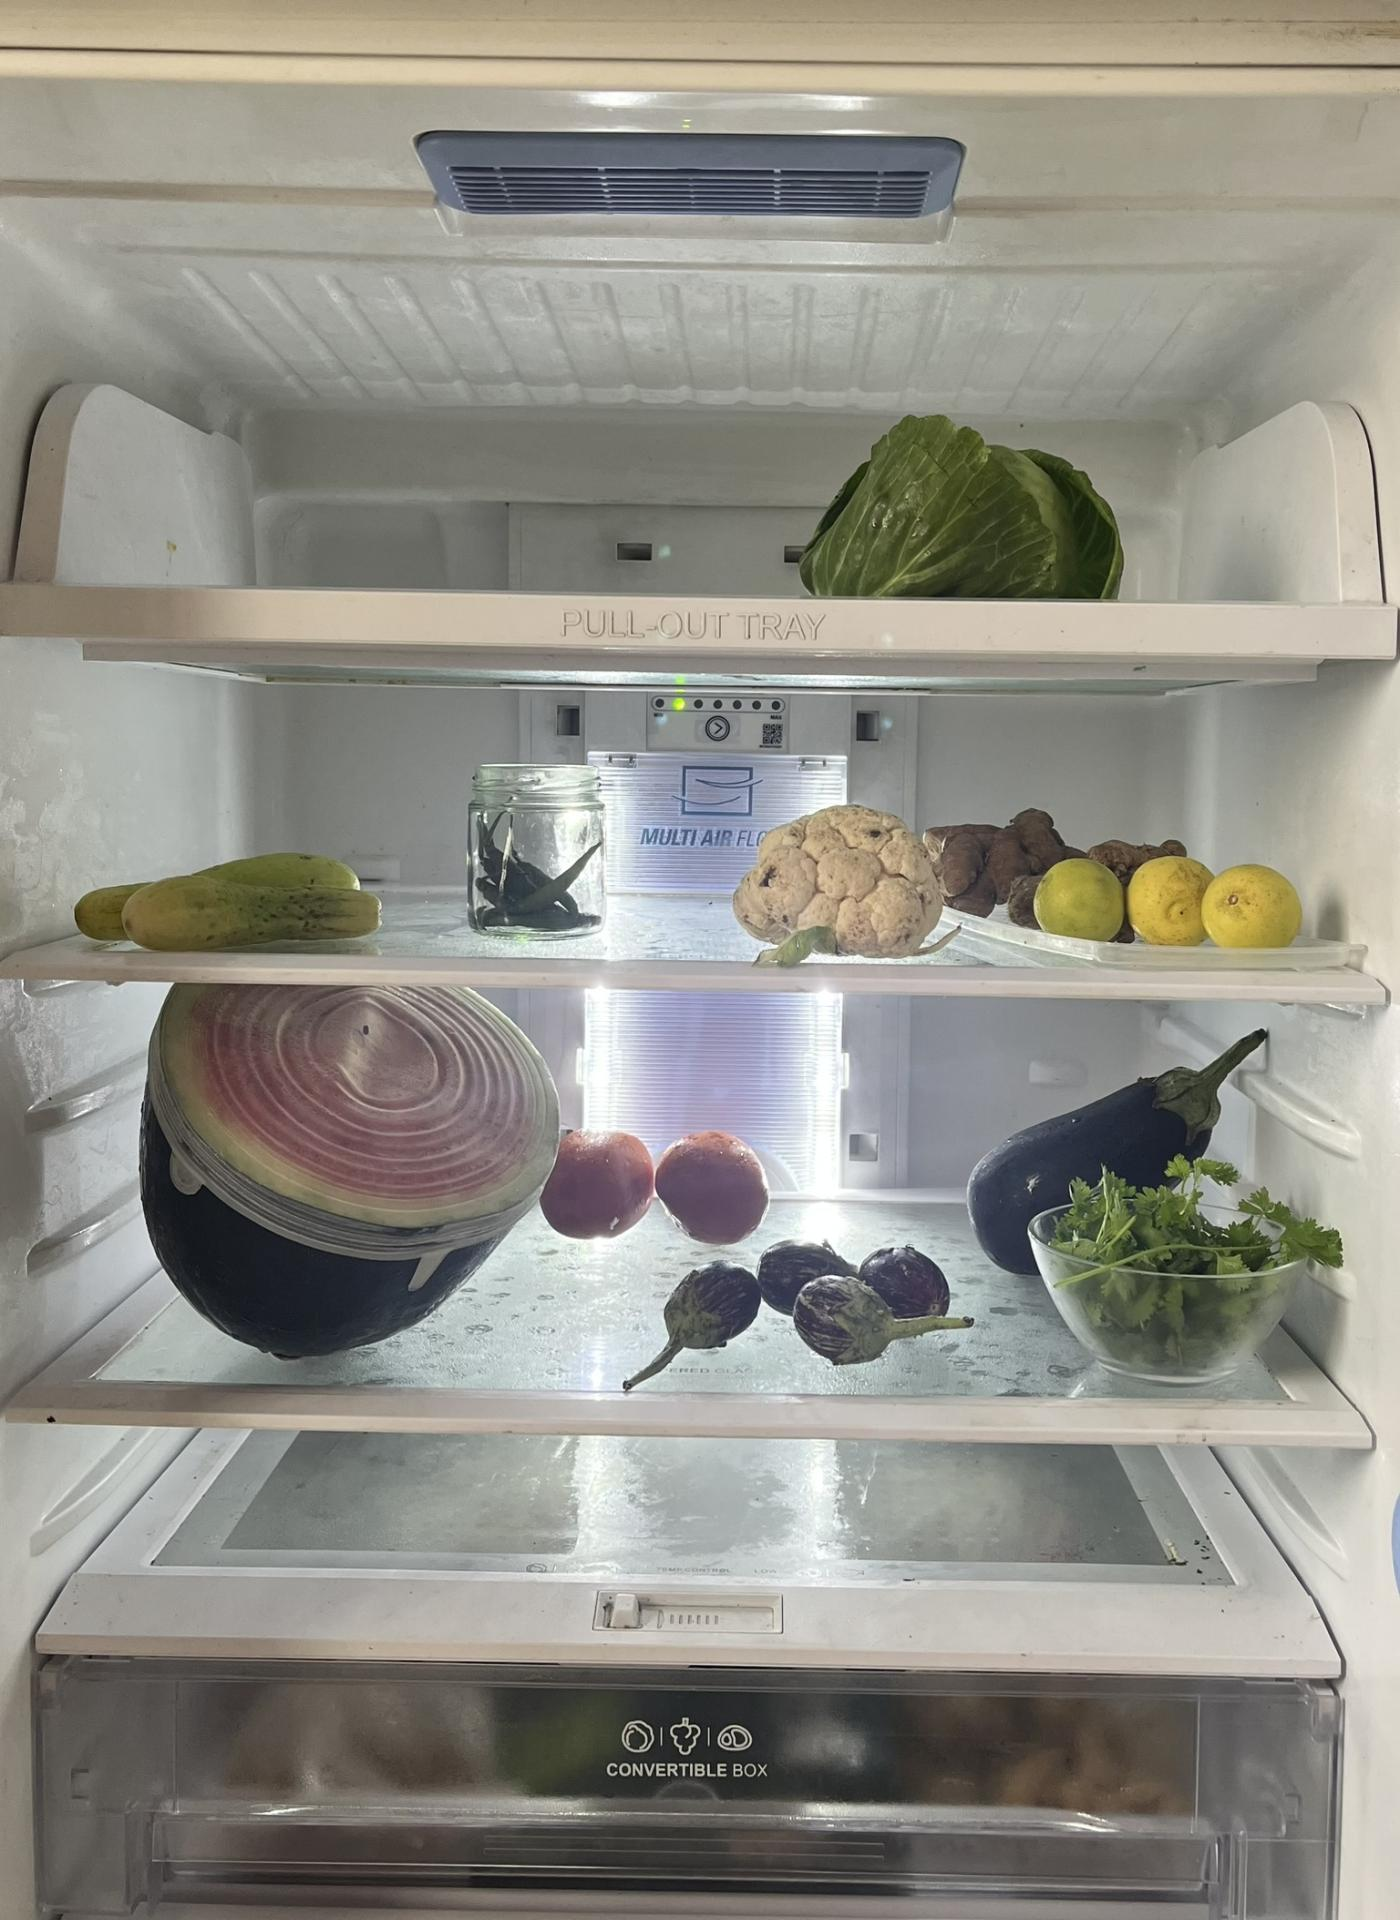cabbage: (802, 413, 1136, 593)
cauliflower: (729, 800, 951, 972)
chillies: (462, 759, 607, 941)
coriander: (1018, 1149, 1349, 1388)
cucumber: (82, 847, 386, 947)
ginger: (921, 809, 1197, 903)
lemon: (1027, 847, 1306, 944)
tomato: (653, 1128, 778, 1248), (550, 1131, 668, 1254)
watermelon: (134, 984, 571, 1360)
